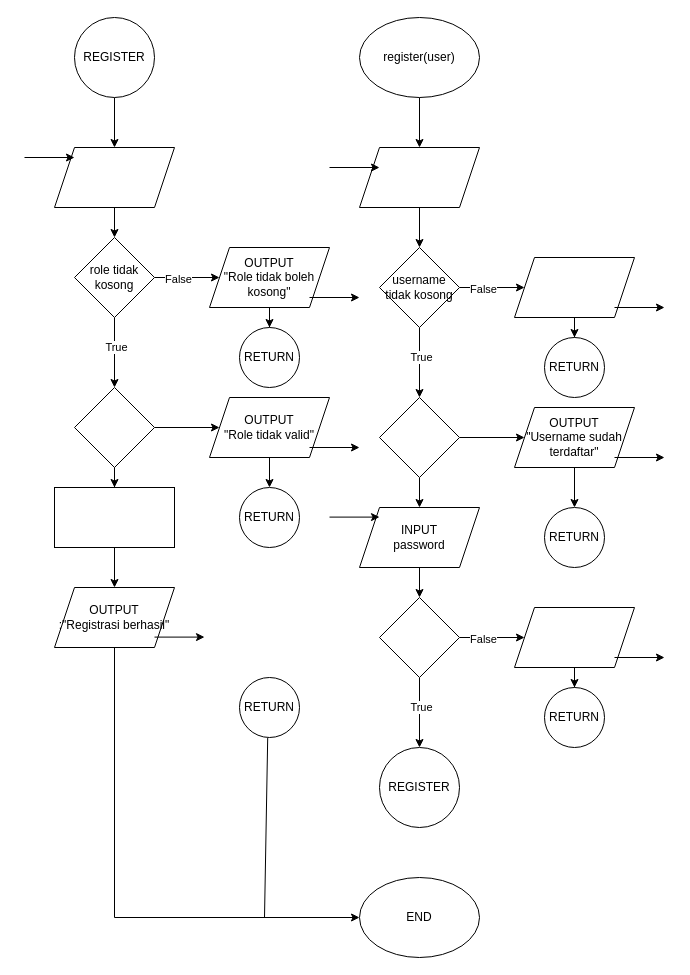
The diagram is 690 pixels wide and 975 high, and some of its shapes have lost their labels. Each missing label, with the centre of its shape:
INPUT role: (114,177)
INPUT username: (419,177)
OUTPUT "password tidak boleh kosong": (574,637)
OUTPUT "Username tidak boleh kosong": (574,287)
password tidak kosong: (419,637)
role adalah superadmin /admin /user: (114,427)
Tambah user baru ke data user: (114,517)
username sudah ada: (419,437)
